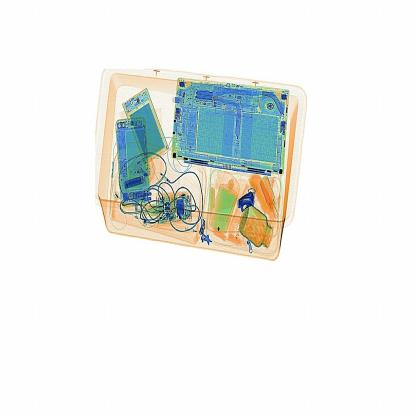knife: (236, 184, 258, 218)
